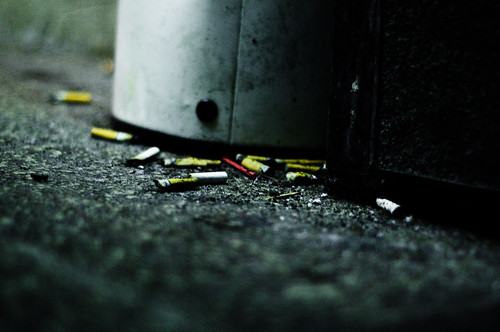trash: (23, 67, 404, 247)
